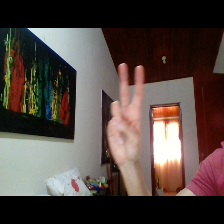KP: (102, 58, 149, 167)
